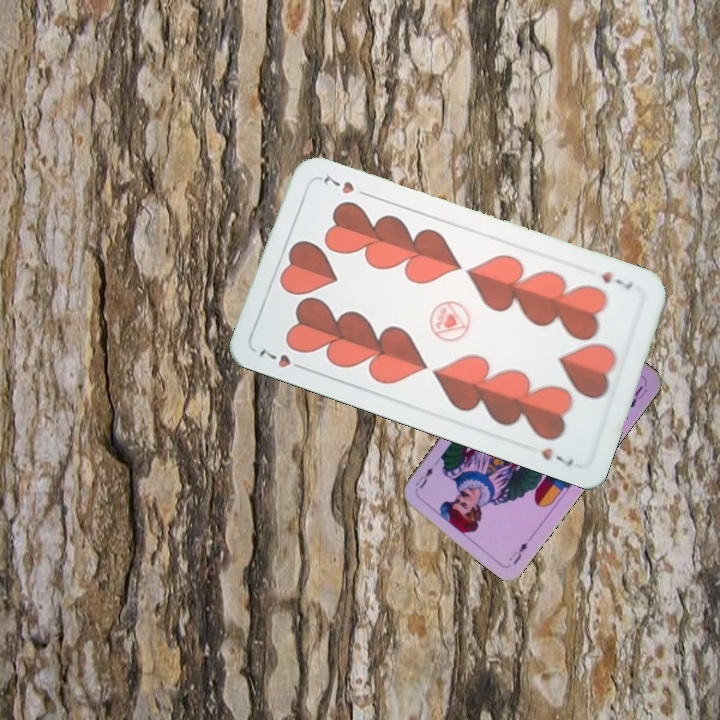EU: (505, 538, 531, 567)
H7: (254, 342, 309, 373), (597, 267, 636, 292)
